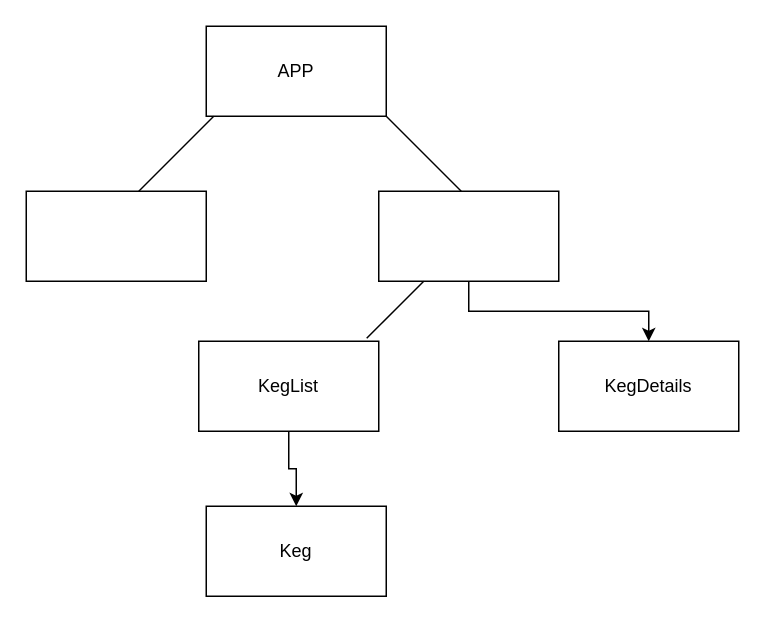
Some shapes in this 765 by 623 pixel diagram are drawn without their labels. Here are the shapes that lost their labels. From the top down, the centre of each, then its label:
(x=115, y=235): HEADER
(x=468, y=235): KegControl
